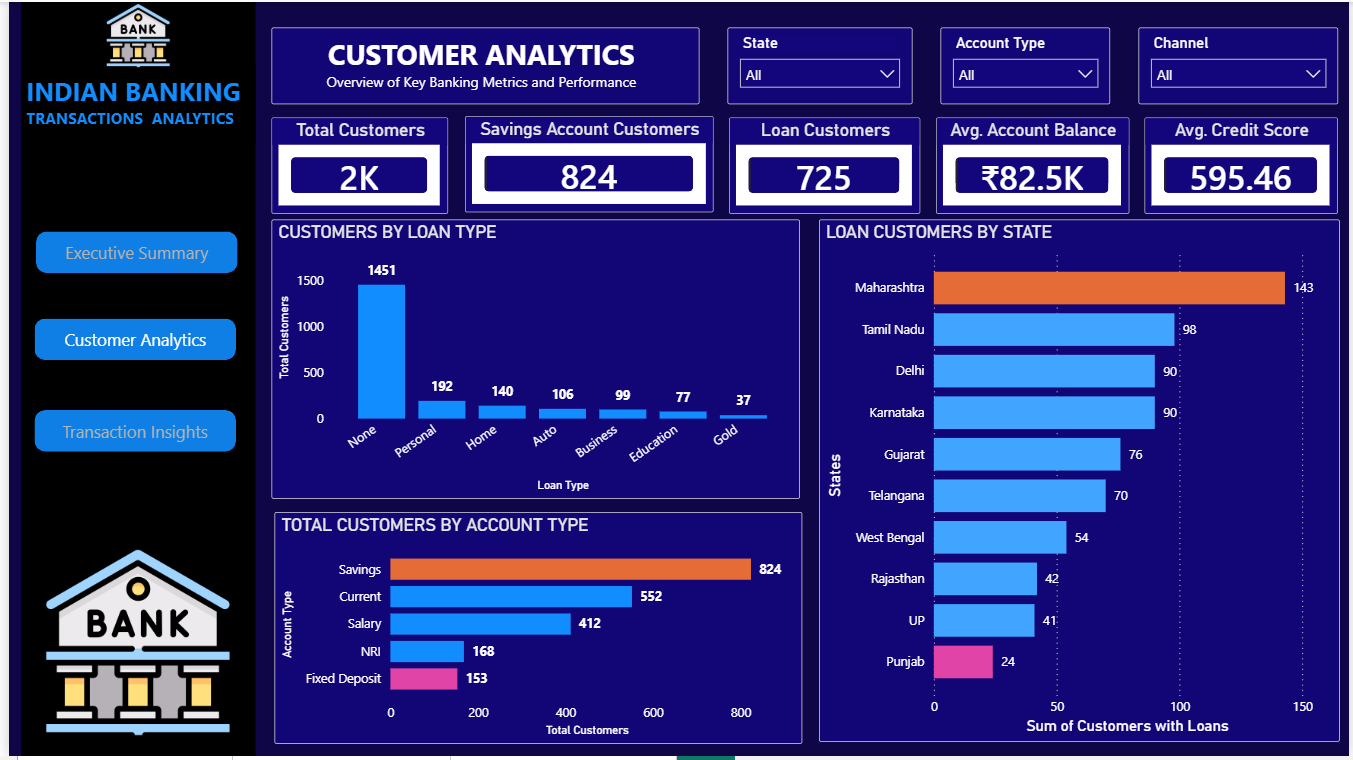

The dashboard page shown, as its layout file describes it:
{"tool":"powerbi","page":{"name":"Customer Analytics","canvas":[1280,720],"ordinal":1},"visuals":[{"type":"shape","box":[11.1,0,224.3,720.5],"z":0},{"type":"textbox","box":[11.1,63.6,224.3,73.2],"z":1000},{"type":"textbox","box":[251.3,23.9,408.8,73.2],"z":2000},{"type":"cardVisual","title":"Savings Account Customers","fields":{"Data":["All measures.Savings Account Customers"]},"box":[435,109.2,237,92.3],"z":3000},{"type":"cardVisual","title":"Loan Customers","fields":{"Data":["All measures.Loan Customers"]},"box":[687.1,109.8,182.9,92.3],"z":4000},{"type":"cardVisual","title":"Total Customers","fields":{"Data":["All measures.Total Customers"]},"box":[251.3,109.8,168.6,92.3],"z":5000},{"type":"cardVisual","title":"Avg. Account Balance","fields":{"Data":["All measures.Avg Account Balance"]},"box":[885.2,109.8,184.5,92.3],"z":6000},{"type":"clusteredColumnChart","title":"CUSTOMERS BY LOAN TYPE","fields":{"Category":["indian_banking_transactions.loan_type"],"Y":["All measures.Total Customers"]},"box":[251.3,207.9,504.6,266.5],"z":7000},{"type":"clusteredBarChart","title":"LOAN CUSTOMERS BY STATE","fields":{"Category":["indian_banking_transactions.state"],"Y":["Sum(indian_banking_transactions.has_loan)"]},"box":[772.9,207.9,497,498.9],"z":8000},{"type":"slicer","fields":{"Values":["indian_banking_transactions.state"]},"box":[686.6,23.9,176.6,73.2],"z":9000},{"type":"slicer","fields":{"Values":["indian_banking_transactions.account_type"]},"box":[889.7,23.9,162.2,73.2],"z":10000},{"type":"slicer","fields":{"Values":["indian_banking_transactions.channel"]},"box":[1078.4,23.9,190.9,73.2],"z":11000},{"type":"image","box":[30.2,499.5,186.1,221.1],"z":12000},{"type":"image","box":[77.9,0,92.3,63.6],"z":13000},{"type":"actionButton","box":[25.4,219.5,192.5,39.8],"z":14000},{"type":"actionButton","box":[23.9,302.2,192.5,39.8],"z":15000},{"type":"actionButton","box":[23.9,389.7,192.5,39.8],"z":16000},{"type":"cardVisual","title":"Avg. Credit Score","fields":{"Data":["All measures.Avg Credit Score"]},"box":[1084.8,109.8,184.5,92.3],"z":17000},{"type":"clusteredBarChart","title":"TOTAL CUSTOMERS BY ACCOUNT TYPE","fields":{"Category":["indian_banking_transactions.account_type"],"Y":["All measures.Total Customers"]},"box":[252.9,486.7,504.2,221.1],"z":18001}]}

Visuals, with their boxes in screenshot pixels (x1, y1, x2, y2), scaled from the page's 1280x720 canvas onto the 1353x760 screenshot:
shape: {"x1": 12, "y1": 0, "x2": 249, "y2": 759}
textbox: {"x1": 12, "y1": 67, "x2": 249, "y2": 144}
textbox: {"x1": 266, "y1": 25, "x2": 698, "y2": 102}
"Savings Account Customers" cardVisual: {"x1": 460, "y1": 115, "x2": 710, "y2": 213}
"Loan Customers" cardVisual: {"x1": 726, "y1": 116, "x2": 920, "y2": 213}
"Total Customers" cardVisual: {"x1": 266, "y1": 116, "x2": 444, "y2": 213}
"Avg. Account Balance" cardVisual: {"x1": 936, "y1": 116, "x2": 1131, "y2": 213}
"CUSTOMERS BY LOAN TYPE" clusteredColumnChart: {"x1": 266, "y1": 219, "x2": 799, "y2": 501}
"LOAN CUSTOMERS BY STATE" clusteredBarChart: {"x1": 817, "y1": 219, "x2": 1342, "y2": 746}
slicer - indian_banking_transactions.state: {"x1": 726, "y1": 25, "x2": 912, "y2": 102}
slicer - indian_banking_transactions.account_type: {"x1": 940, "y1": 25, "x2": 1112, "y2": 102}
slicer - indian_banking_transactions.channel: {"x1": 1140, "y1": 25, "x2": 1342, "y2": 102}
image: {"x1": 32, "y1": 527, "x2": 229, "y2": 759}
image: {"x1": 82, "y1": 0, "x2": 180, "y2": 67}
actionButton: {"x1": 27, "y1": 232, "x2": 230, "y2": 274}
actionButton: {"x1": 25, "y1": 319, "x2": 229, "y2": 361}
actionButton: {"x1": 25, "y1": 411, "x2": 229, "y2": 453}
"Avg. Credit Score" cardVisual: {"x1": 1147, "y1": 116, "x2": 1342, "y2": 213}
"TOTAL CUSTOMERS BY ACCOUNT TYPE" clusteredBarChart: {"x1": 267, "y1": 514, "x2": 800, "y2": 747}
